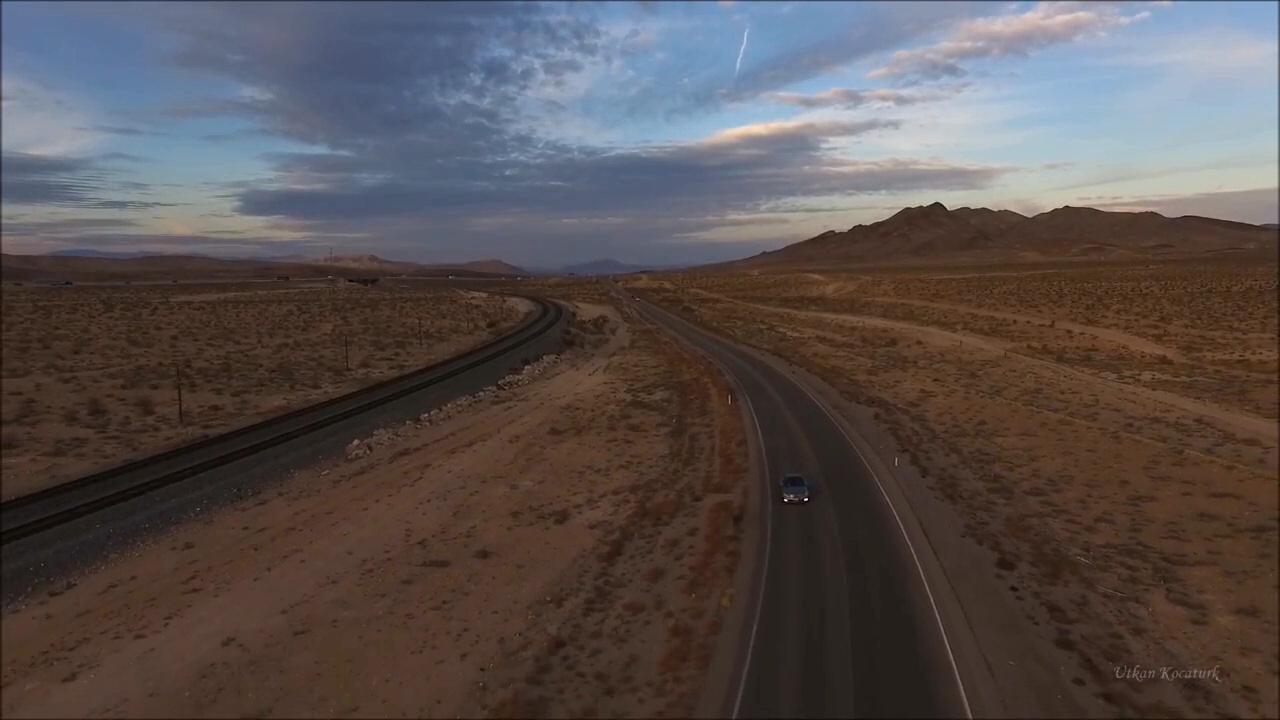araba: (776, 474, 813, 503)
